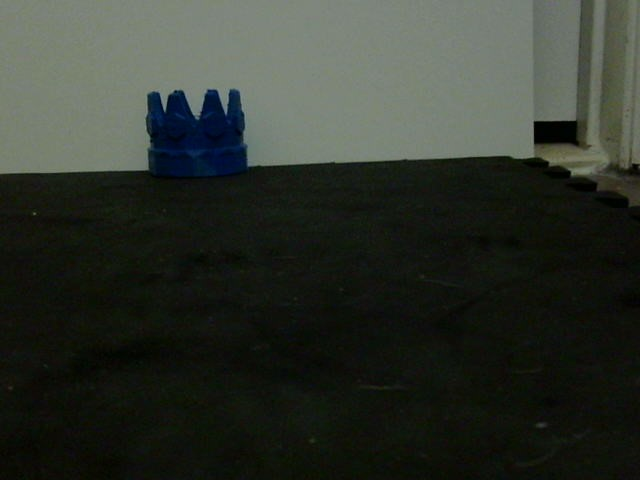crown: (145, 88, 249, 181)
